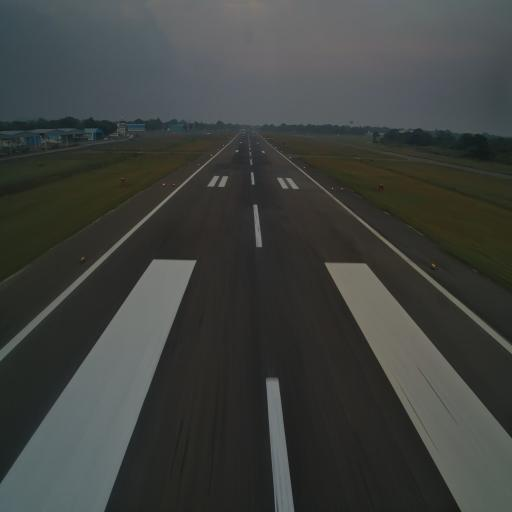on: (429, 258, 438, 271), (80, 252, 86, 262), (340, 185, 344, 192), (172, 180, 175, 188), (162, 182, 166, 187), (331, 186, 334, 190)
